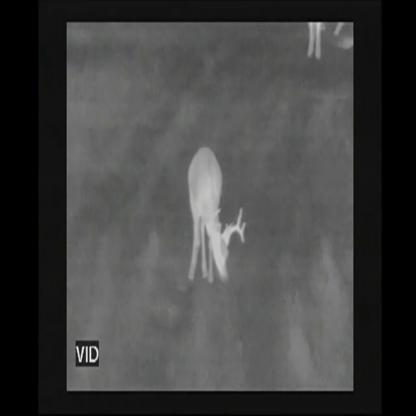rehkitze: (186, 141, 247, 288), (306, 20, 323, 62)
